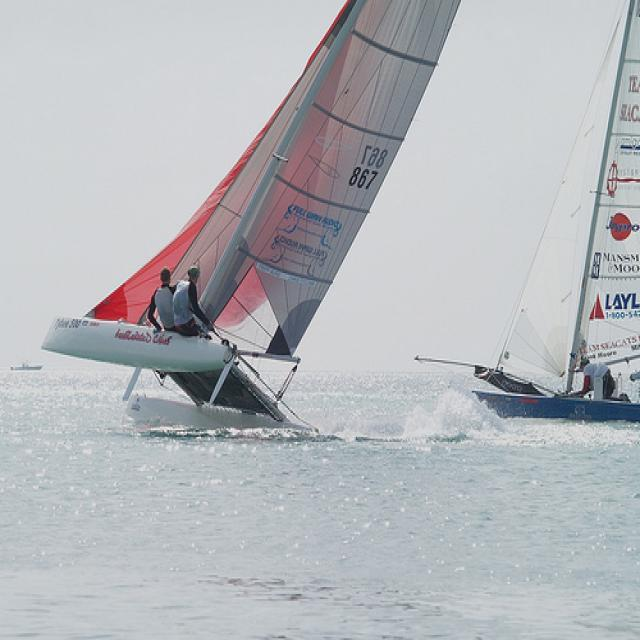Ship: (38, 3, 465, 442), (487, 1, 639, 424)
